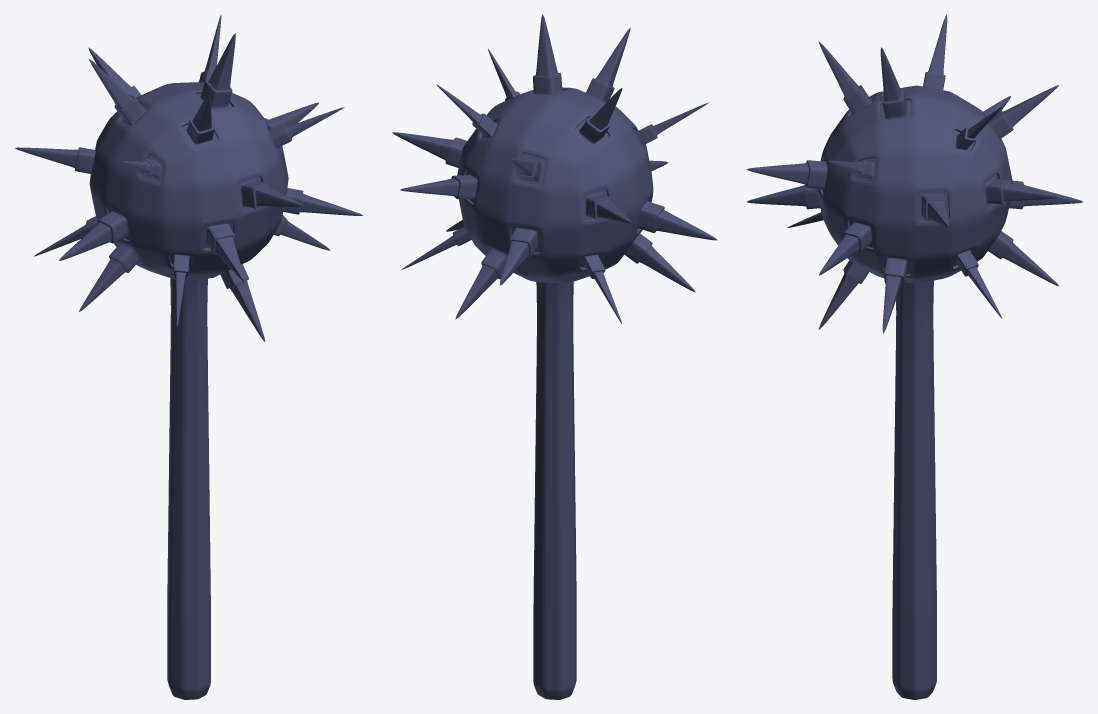
Rendered from MaceWithoutChain.fbx.
The picture shows the model from 3 angles, left to right: view 1: azimuth 30°, elevation 25°; view 2: azimuth 150°, elevation 25°; view 3: azimuth 270°, elevation 25°; orthographic projection.
Parts seen in each view (by area): view 1: Cube.001; view 2: Cube.001; view 3: Cube.001.
Part boxes in pixels (x1,y1,x2,y2): Cube.001: [15, 14, 362, 699]; Cube.001: [392, 14, 717, 699]; Cube.001: [746, 14, 1082, 699].
Bounding box in the file's own units: 33.29 × 72.16 × 33.29.
